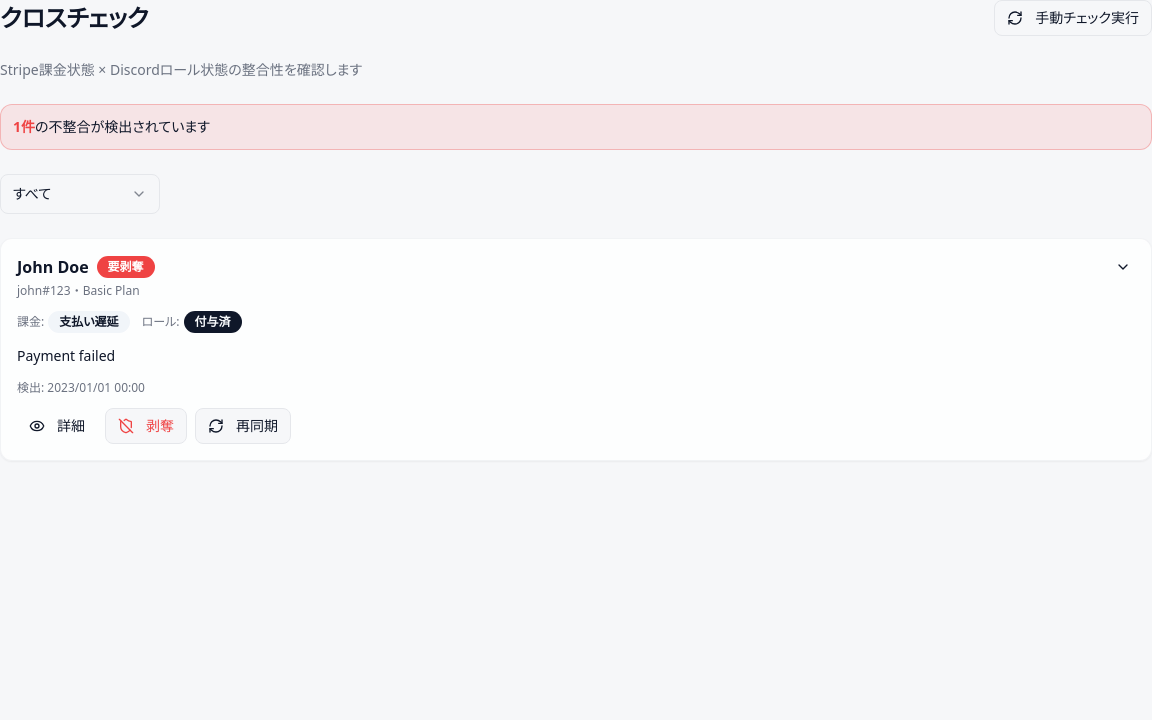
Test case: SellerCrosscheck › shows ConfirmDialog when attempting to revoke role
The width and height of the screenshot is (1152, 720).
Click the button "剥奪" at (146, 426), box [105,408,187,444]
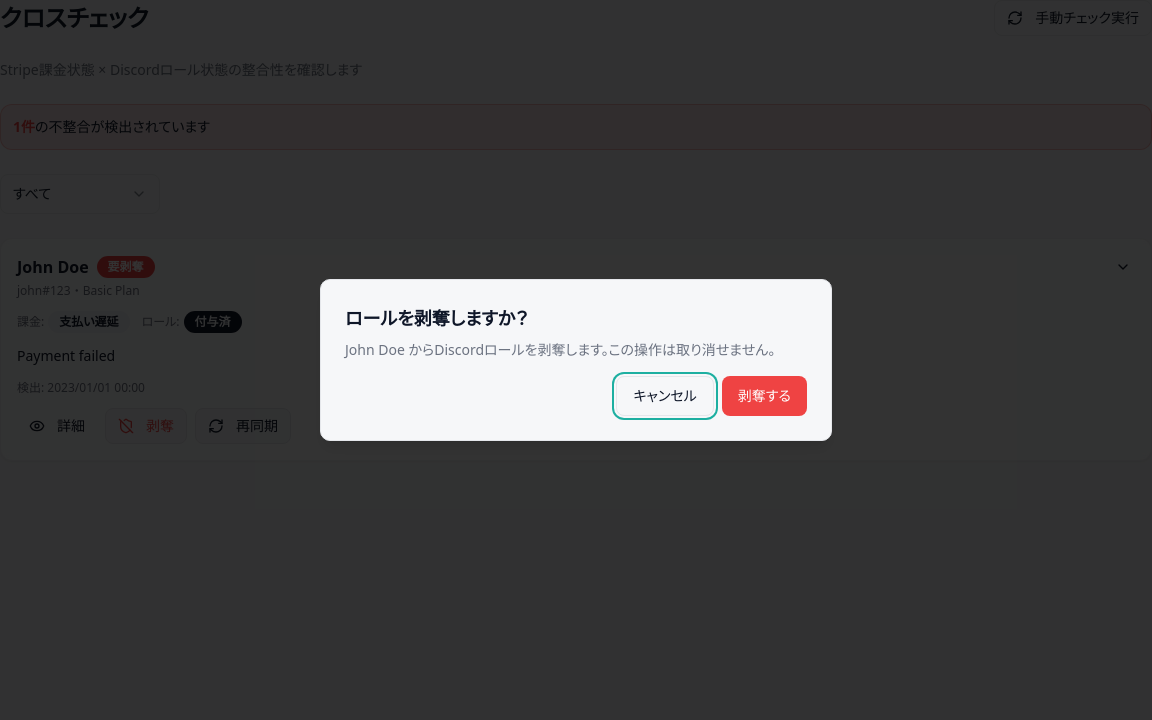
Check: the heading "ロールを剥奪しますか？" is shown, box [345,306,528,330]
Check: the text "John Doe からDiscordロールを剥奪します。この操作は取り消せません。" is shown, box [345,340,807,360]
Check: the button "剥奪する" is shown, box [722,376,807,416]
